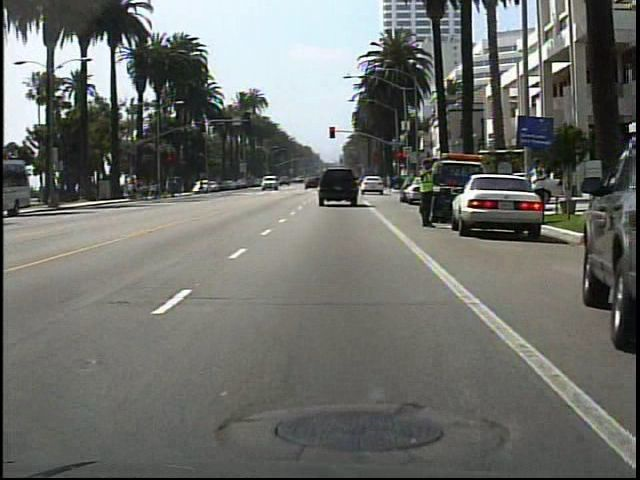person: (528, 155, 554, 241), (416, 158, 442, 229)
